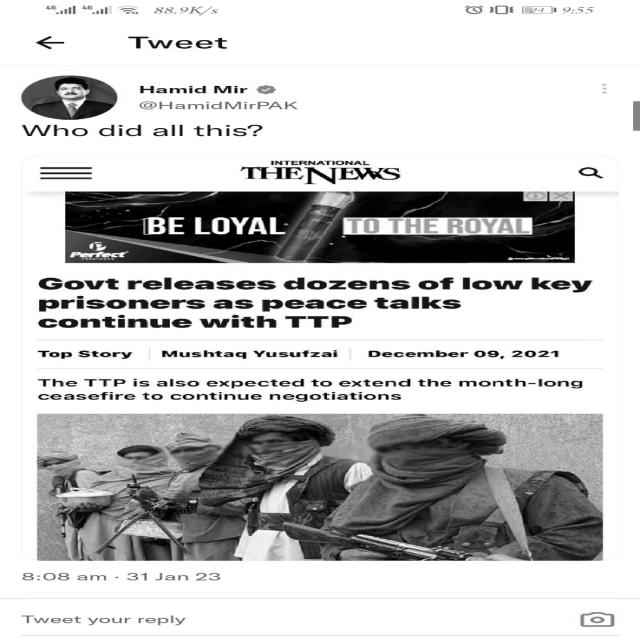CheckedTextView: (250, 80, 298, 96)
EditText: (12, 611, 291, 632)
ImageButton: (26, 164, 98, 180), (566, 609, 616, 631), (590, 75, 622, 103), (33, 34, 71, 55), (564, 164, 608, 178)
ImageView: (21, 412, 611, 562)
TextView: (36, 275, 596, 327), (31, 376, 587, 406), (33, 345, 565, 363), (247, 156, 420, 188), (17, 124, 278, 140), (20, 573, 255, 585), (122, 35, 260, 52), (132, 82, 240, 96), (140, 102, 296, 109)
